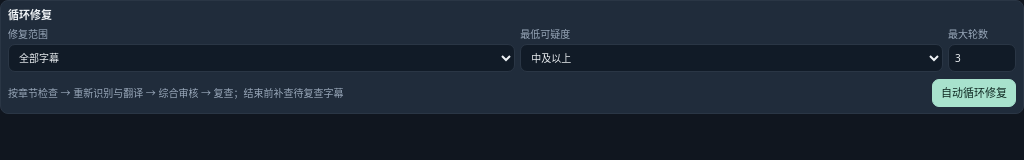
Test: bounded repair controls › rejects invalid round input
The image size is (1024, 160).
Clear the number field named "自动修复最大轮数" at [982, 58], box x1=948 y1=44 x2=1016 y2=72
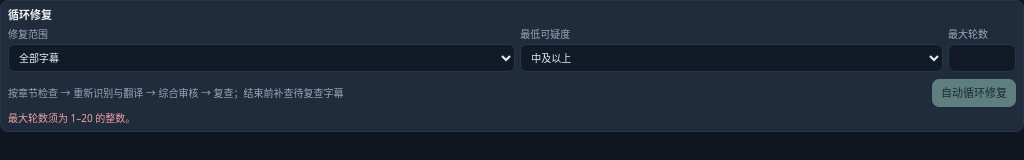
Check: the button "自动循环修复" is disabled, box x1=932 y1=79 x2=1016 y2=107
Check: the message shows "1–20", box x1=8 y1=111 x2=135 y2=125
